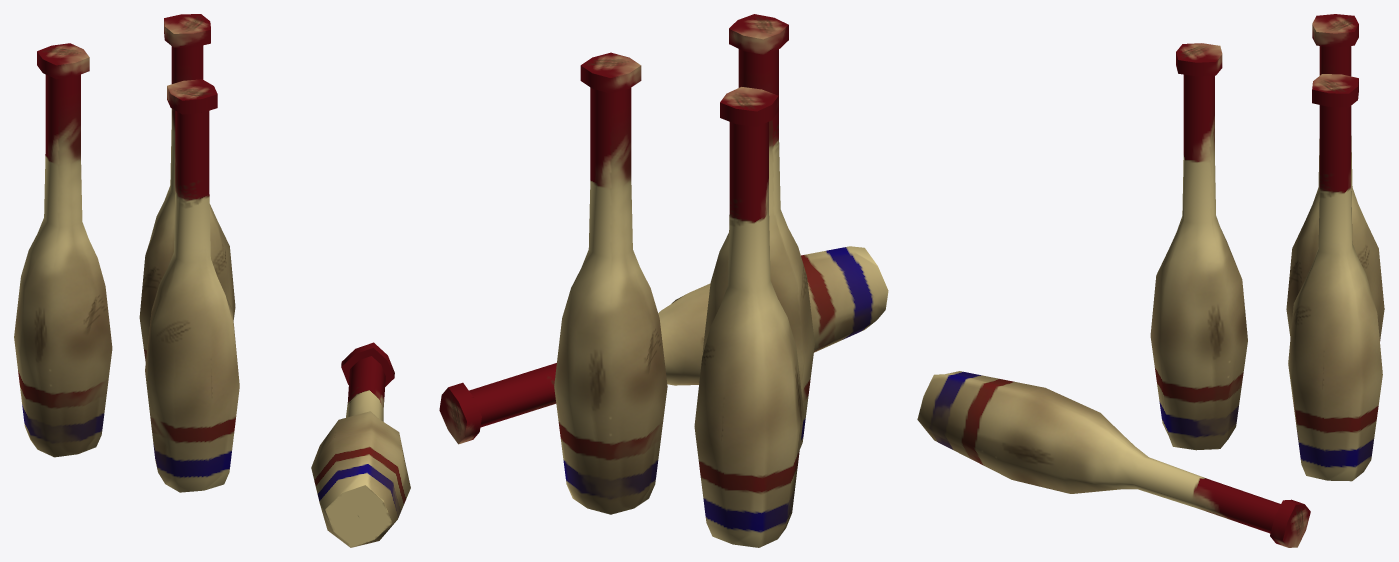
The model's file is Prop_JugglingClub.glb.
3 views of the same model, side by side, from view 1: azimuth 30°, elevation 25°; view 2: azimuth 150°, elevation 25°; view 3: azimuth 270°, elevation 25° (orthographic). The views are drawn at different scales.
Visible parts, largest first — view 1: Roundcube, Roundcube.003, Roundcube.004, Roundcube.002; view 2: Roundcube.002, Roundcube, Roundcube.004, Roundcube.003; view 3: Roundcube.003, Roundcube.004, Roundcube.002, Roundcube.
Boxes of the visible parts, bbox=[...] form: Roundcube: bbox=[14, 43, 112, 457]; Roundcube.003: bbox=[145, 79, 239, 492]; Roundcube.004: bbox=[311, 342, 410, 547]; Roundcube.002: bbox=[139, 14, 235, 362]; Roundcube.002: bbox=[554, 52, 667, 514]; Roundcube: bbox=[694, 87, 803, 547]; Roundcube.004: bbox=[439, 246, 888, 444]; Roundcube.003: bbox=[702, 14, 814, 448]; Roundcube.003: bbox=[1150, 43, 1247, 450]; Roundcube.004: bbox=[917, 371, 1310, 547]; Roundcube.002: bbox=[1288, 74, 1382, 481]; Roundcube: bbox=[1286, 14, 1384, 340].
Bounding box in the file's own units: 0.508 × 0.5477 × 0.5972.
Materials: 1 (1 with a texture image).
